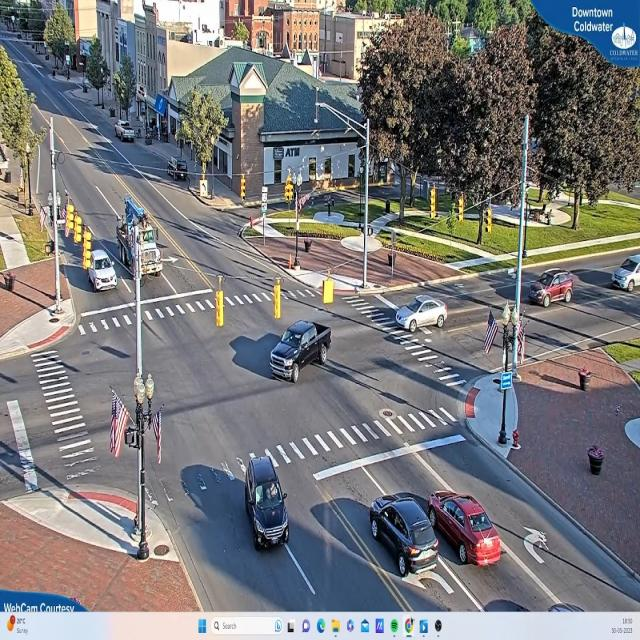car: (368, 494, 442, 579), (427, 491, 505, 568), (269, 317, 334, 383), (246, 455, 290, 550), (495, 268, 578, 308), (392, 297, 448, 334), (88, 247, 120, 303), (530, 272, 575, 309), (612, 257, 640, 291), (117, 122, 137, 144)
truck: (118, 195, 160, 292)
